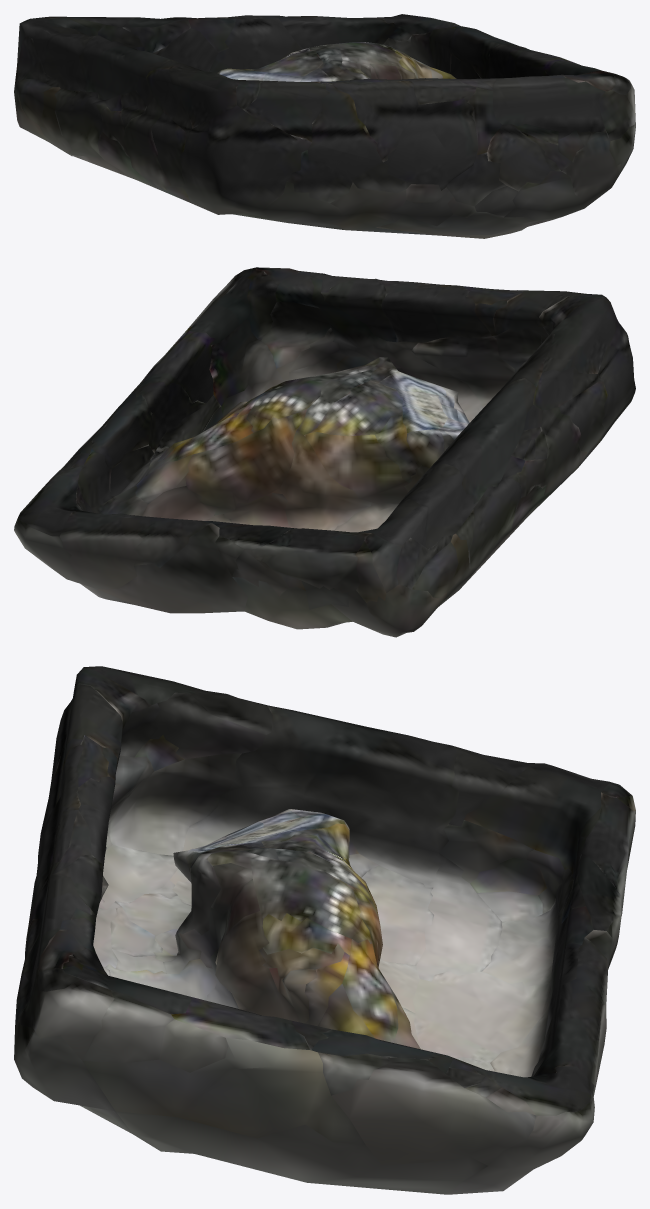
The model's file is hall.glb.
3 views of the same model, one above another, from view 1: azimuth 30°, elevation 25°; view 2: azimuth 150°, elevation 25°; view 3: azimuth 270°, elevation 25° (orthographic). The views are drawn at different scales.
Bounding box in the file's own units: 0.5676 × 0.3331 × 0.5832.
Materials: 1 (1 with a texture image).
